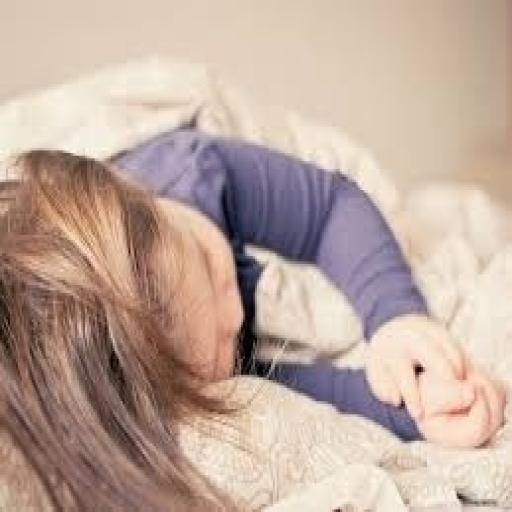sleeping: (0, 114, 508, 510)
